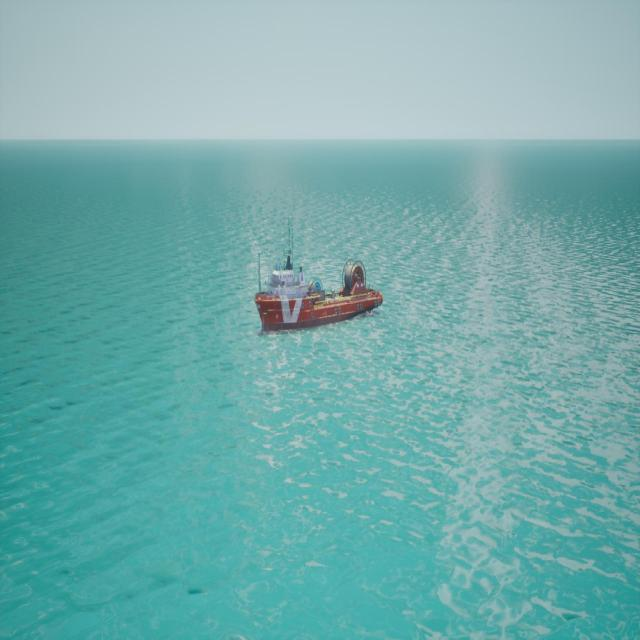tug boat: (252, 218, 384, 340)
